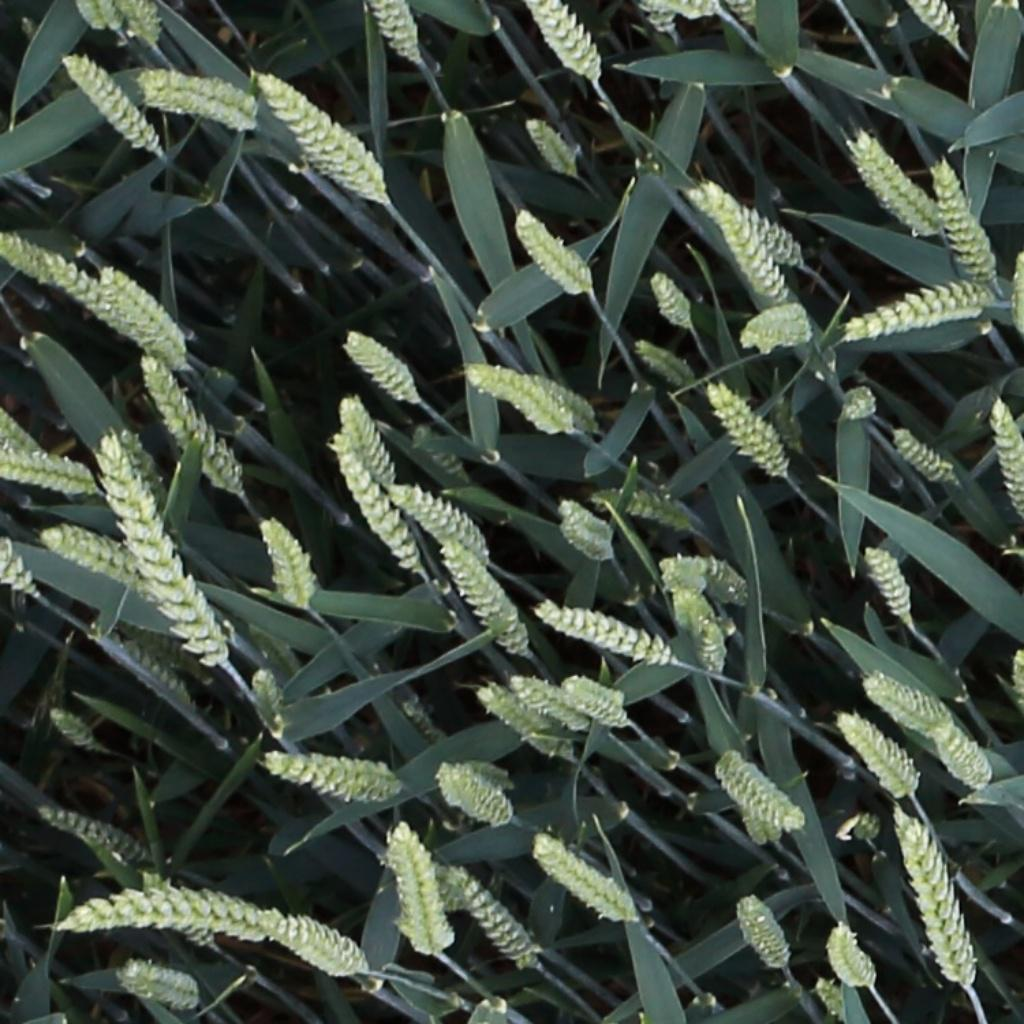0-0: (90, 427, 230, 669), (253, 70, 391, 204), (132, 350, 240, 494), (57, 884, 262, 955), (324, 434, 421, 578), (897, 812, 973, 987), (434, 536, 531, 660), (697, 188, 790, 304), (60, 50, 161, 155), (28, 237, 133, 337), (439, 862, 537, 969), (533, 604, 674, 676), (387, 824, 457, 961), (846, 281, 1000, 342), (389, 481, 496, 568), (928, 154, 996, 286), (851, 131, 939, 232), (138, 67, 262, 137), (712, 750, 808, 840), (697, 182, 803, 262), (703, 380, 787, 479), (95, 266, 184, 359), (531, 836, 628, 921), (259, 910, 369, 983), (860, 672, 963, 747), (466, 365, 573, 437), (263, 752, 401, 807), (834, 711, 918, 800), (510, 204, 592, 294), (525, 0, 602, 84), (333, 390, 395, 490), (341, 329, 422, 405), (113, 636, 193, 712), (435, 759, 512, 836), (38, 808, 146, 862), (39, 527, 139, 582), (256, 514, 315, 606), (660, 568, 737, 634), (987, 394, 1024, 528), (113, 622, 202, 677), (860, 542, 916, 629), (733, 890, 790, 974), (109, 427, 166, 510), (518, 372, 597, 431), (509, 675, 589, 731), (0, 450, 96, 495), (520, 109, 580, 180), (741, 297, 815, 354), (118, 963, 198, 1014), (936, 718, 989, 794), (667, 556, 751, 603), (555, 496, 614, 562), (476, 685, 547, 738), (890, 425, 954, 483), (0, 230, 62, 288), (828, 921, 876, 995), (368, 0, 420, 66), (643, 264, 694, 331), (611, 494, 692, 531), (245, 660, 281, 742), (632, 339, 692, 386), (0, 535, 40, 603), (563, 690, 628, 729), (909, 1, 963, 47), (643, 0, 725, 30), (635, 1, 688, 46), (45, 707, 96, 752), (114, 0, 159, 47), (808, 972, 850, 1022), (691, 614, 719, 688), (561, 679, 622, 708), (76, 0, 116, 35), (838, 385, 875, 420)
